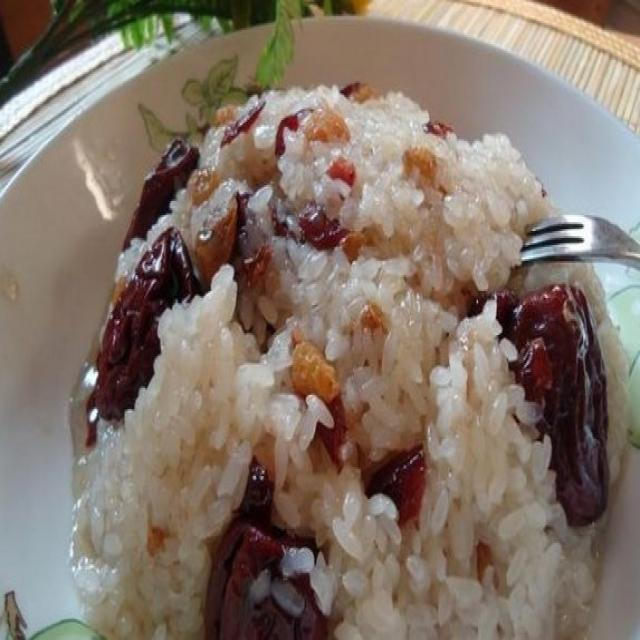米饭主食: (19, 28, 613, 631)
